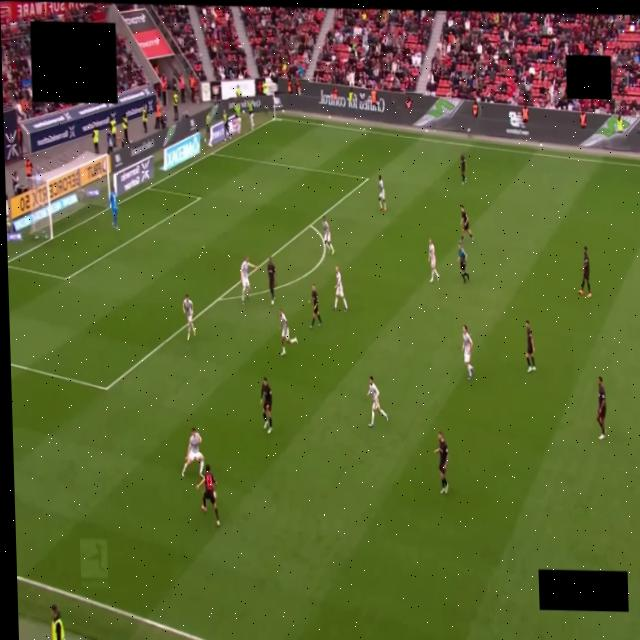player: (196, 465, 218, 526), (181, 428, 204, 476), (366, 376, 387, 427), (278, 310, 297, 356), (434, 432, 447, 494), (240, 257, 257, 304), (260, 378, 272, 434), (578, 247, 590, 297), (182, 294, 195, 340), (462, 326, 473, 379), (334, 267, 347, 311), (596, 376, 605, 439), (266, 256, 277, 305), (525, 320, 535, 372), (308, 285, 320, 328), (460, 205, 472, 241), (428, 239, 438, 282), (322, 216, 333, 254), (109, 190, 117, 230), (378, 176, 386, 211), (460, 154, 466, 184)
referee: (457, 242, 468, 282)
